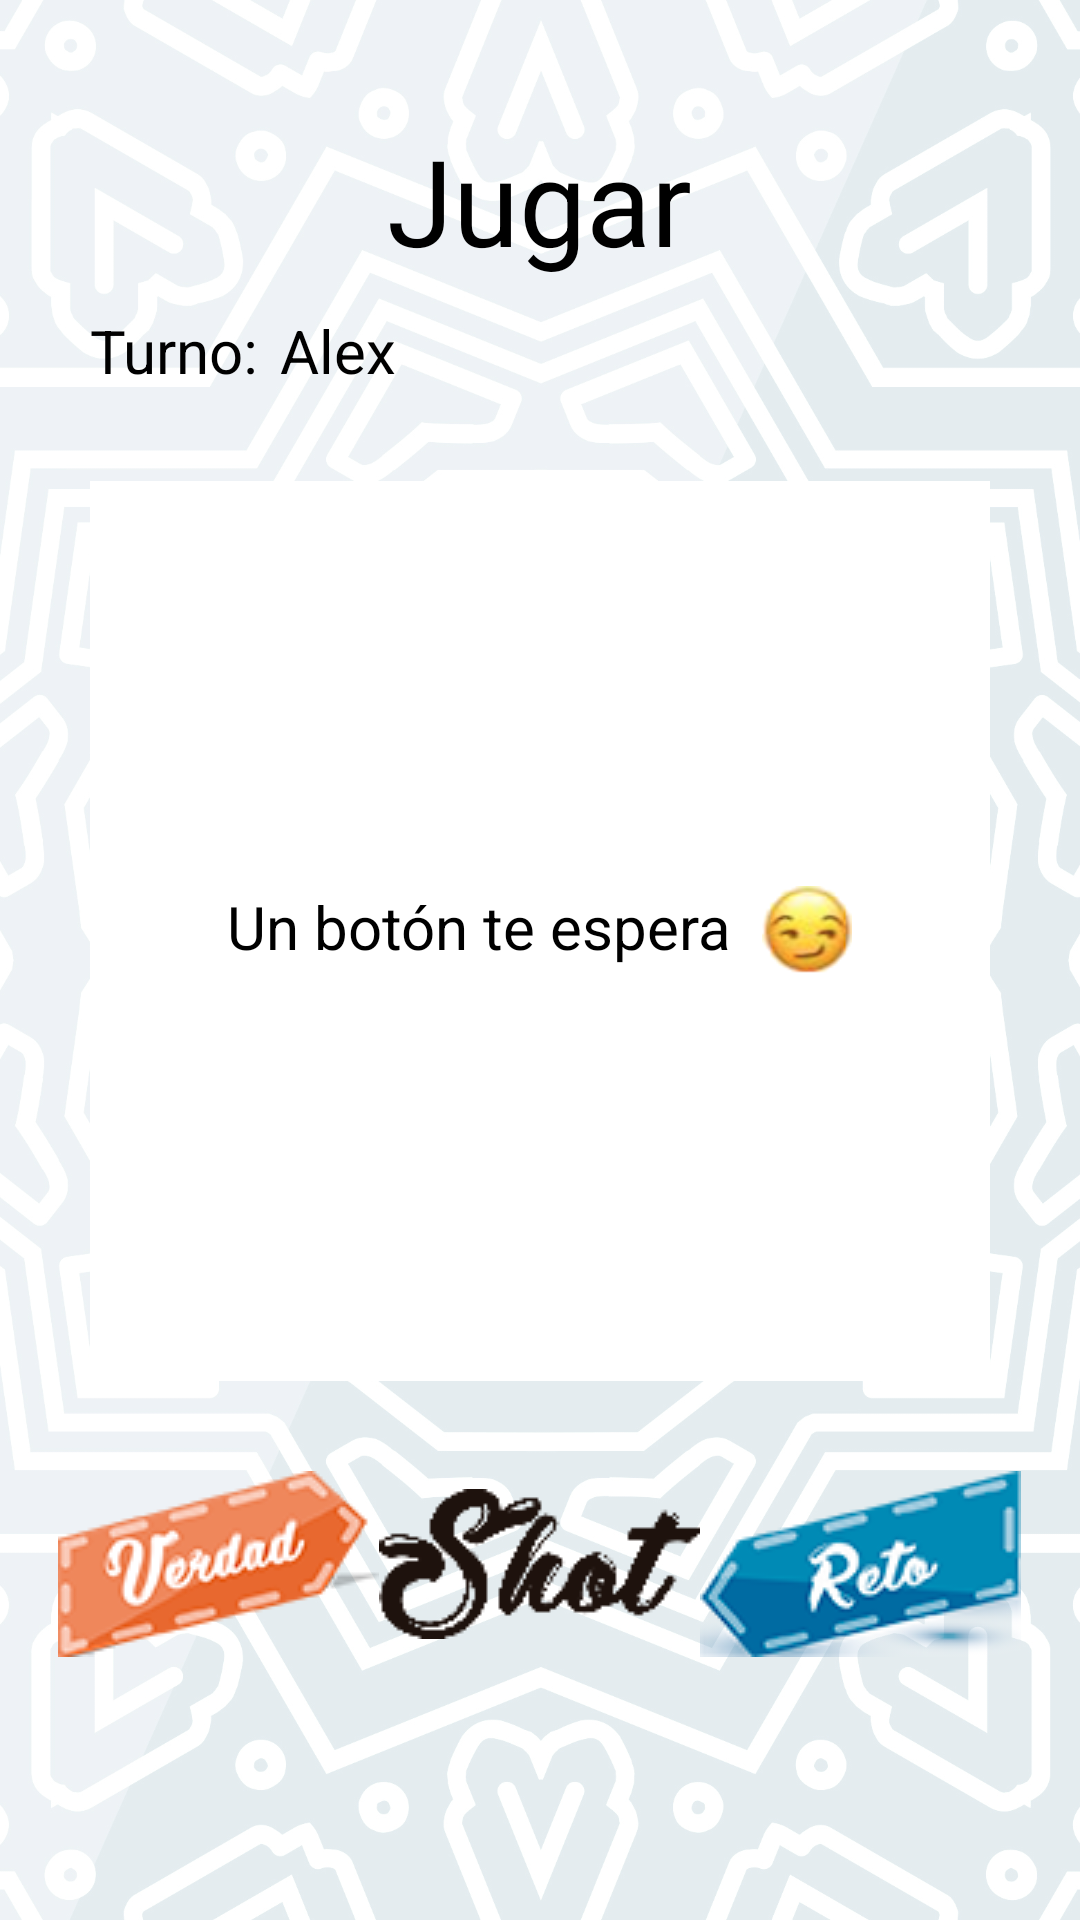

Icon click points for this 1080 x 1920 phone screenshot, format [x,y]:
emoji: [807,929]
